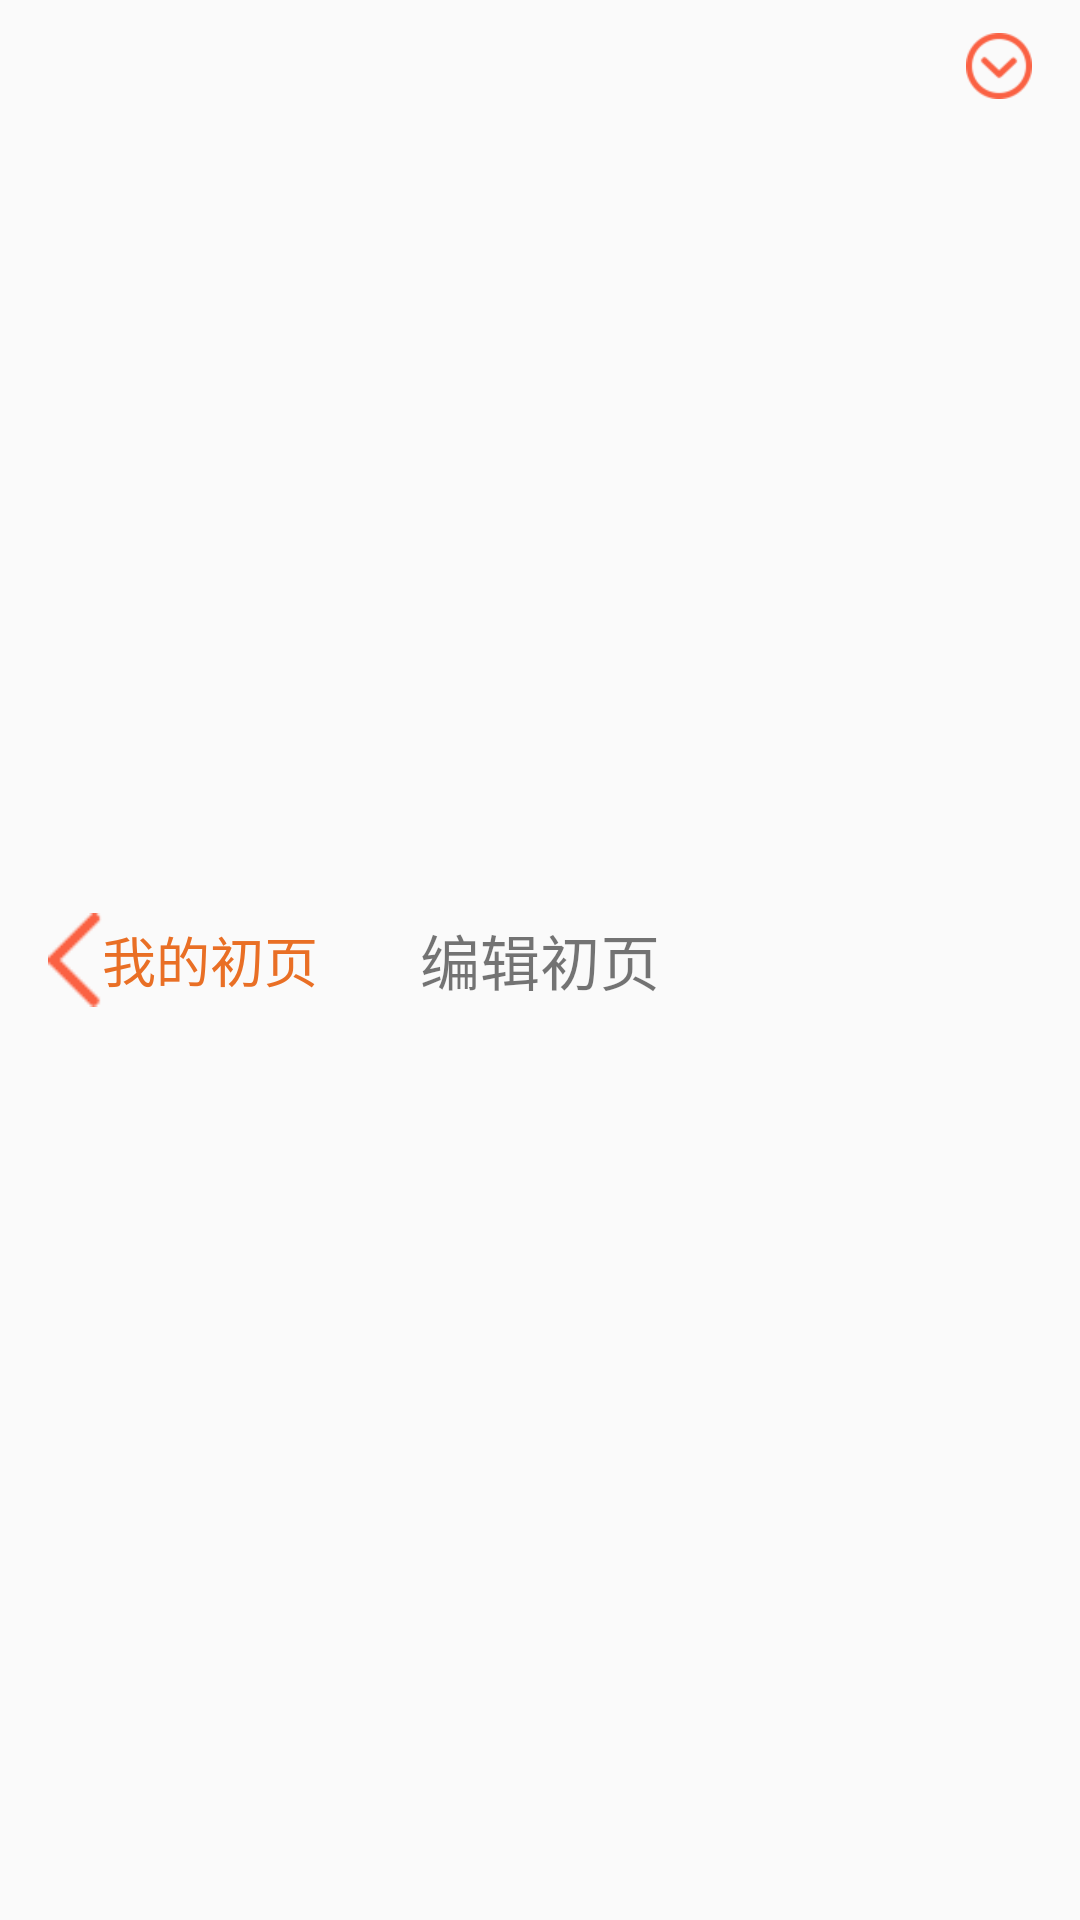

Named icons in this screenshot (1080px×1920px) and their bounding boxes, (x1, y1, x2, y2):
back: (48, 913, 101, 1007)
